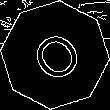O_SE: (22, 21, 88, 89)
